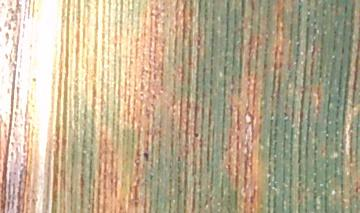tarspot: (142, 150, 150, 163), (30, 76, 39, 84), (193, 131, 200, 140)
